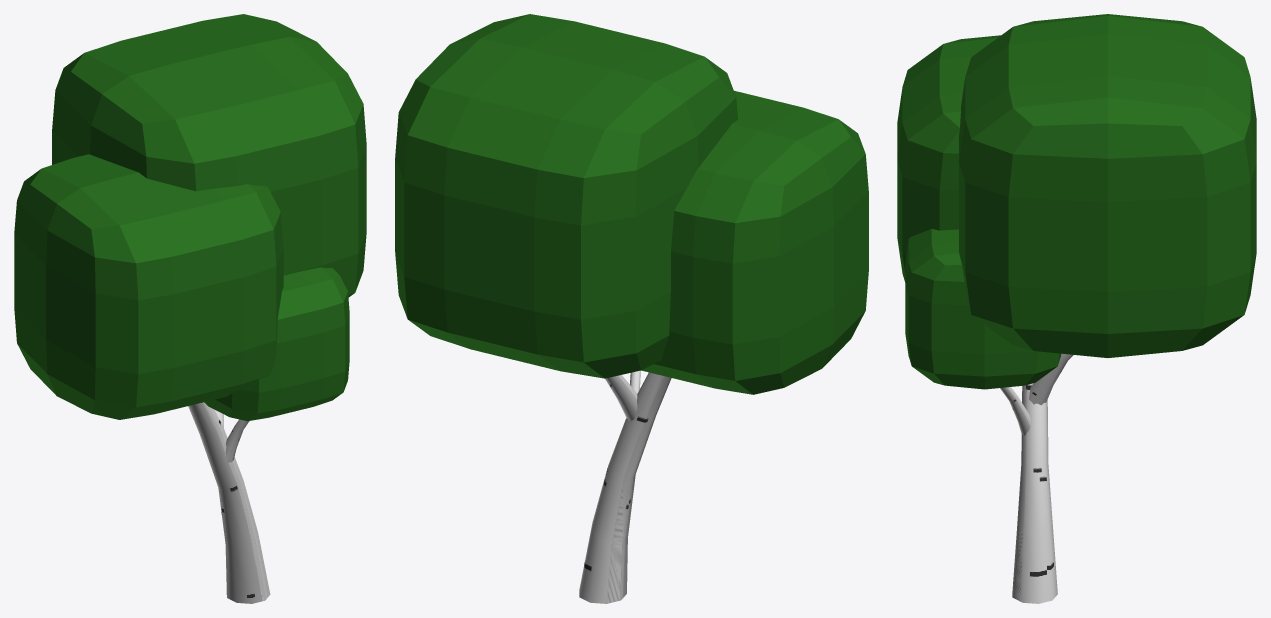
Rendered from Abedul Grande.fbx.
The picture shows the model from 3 angles, left to right: view 1: azimuth 30°, elevation 25°; view 2: azimuth 150°, elevation 25°; view 3: azimuth 270°, elevation 25°; orthographic projection. The views are drawn at different scales.
Visible parts, largest first — view 1: Abedul; view 2: Abedul; view 3: Abedul.
Boxes of the visible parts, left/top/right/bottom form: Abedul: left=14, top=14, right=366, bottom=603; Abedul: left=395, top=14, right=868, bottom=603; Abedul: left=897, top=14, right=1256, bottom=603.
Bounding box in the file's own units: 2231 × 2058 × 3395.
2 materials, 1 textured.
